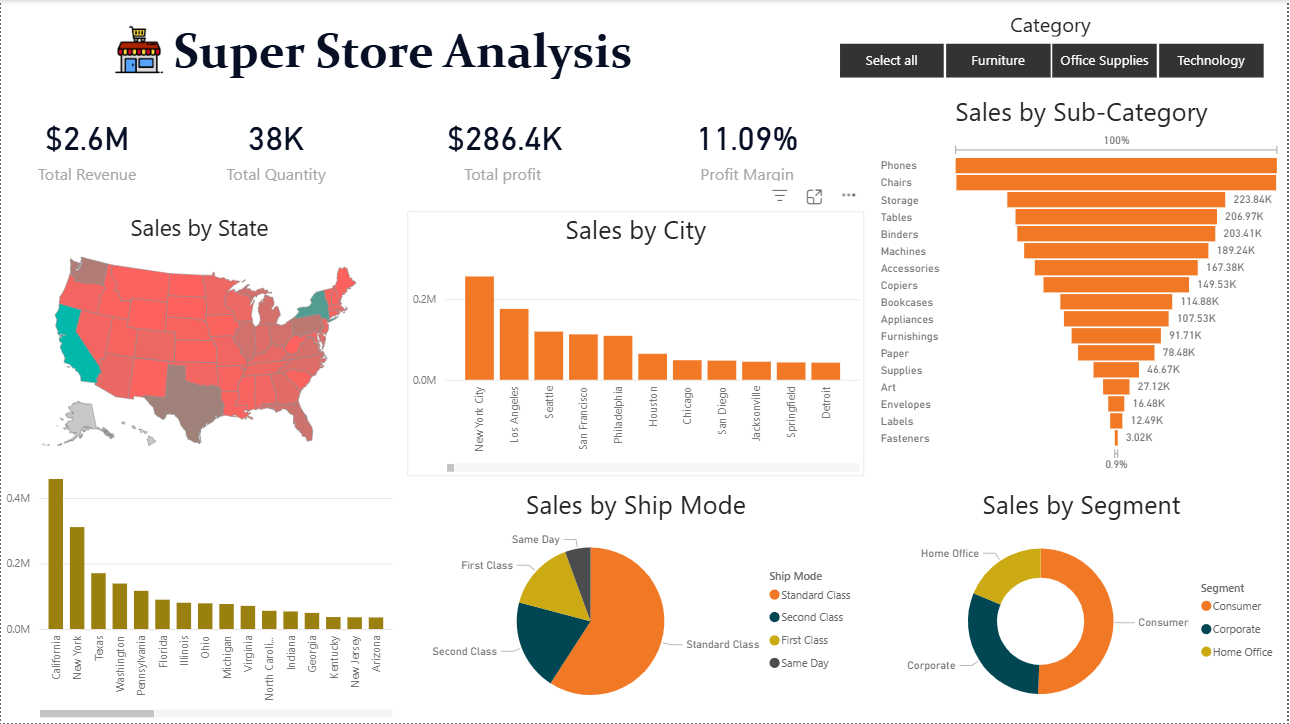

This screenshot's page, from the dashboard's own definition file:
{"tool":"powerbi","page":{"name":"Sales","canvas":[1280,720],"ordinal":0},"visuals":[{"type":"textbox","box":[165.7,16.4,479.3,72.1],"z":0,"group":"g1"},{"type":"card","fields":{"Values":["SampleSuperstore.Profit plus Sales"]},"box":[0,93,171.8,106.3],"z":0},{"type":"image","box":[107.7,20.4,58.2,59.3],"z":1000,"group":"g1"},{"type":"card","fields":{"Values":["Sum(SampleSuperstore.Quantity)"]},"box":[171.8,93,204.6,106.3],"z":1000},{"type":"card","fields":{"Values":["Sum(SampleSuperstore.Profit)"]},"box":[376.4,93,249.7,106.3],"z":2000},{"type":"card","fields":{"Values":["SampleSuperstore.Profit divided by Total Revenue"]},"box":[626.1,93,233.8,106.3],"z":3000},{"type":"shapeMap","title":"Sales by State","fields":{"Category":["SampleSuperstore.State"],"Value":["Sum(SampleSuperstore.Sales)"]},"box":[0,209.9,395,248.9],"z":4000},{"type":"clusteredColumnChart","fields":{"Y":["Sum(SampleSuperstore.Sales)"],"Category":["SampleSuperstore.State"]},"box":[0,449,395,270.1],"z":5000},{"type":"clusteredColumnChart","title":"Sales by City","fields":{"Y":["Sum(SampleSuperstore.Sales)"],"Category":["SampleSuperstore.City"]},"box":[404.7,209.9,455.2,263.9],"z":6000},{"type":"pieChart","title":"Sales by Ship Mode","fields":{"Category":["SampleSuperstore.Ship Mode"],"Y":["Sum(SampleSuperstore.Sales)"]},"box":[404.7,483.5,455.2,235.6],"z":7000},{"type":"funnel","title":"Sales by Sub-Category","fields":{"Category":["SampleSuperstore.Sub-Category"],"Y":["Sum(SampleSuperstore.Sales)"]},"box":[870.6,93,409.2,380.8],"z":8000},{"type":"donutChart","title":"Sales by Segment","fields":{"Category":["SampleSuperstore.Segment"],"Y":["Sum(SampleSuperstore.Sales)"]},"box":[870.6,484.4,409.2,235.6],"z":9000},{"type":"slicer","title":"Category","fields":{"Values":["SampleSuperstore.Category"]},"box":[808.3,10,471.7,73.9],"z":10000},{"type":"group","id":"g1","title":"Group 1","box":[107.7,16.4,537.4,72.1],"z":11000}]}

Visuals, with their boxes in screenshot pixels (x1, y1, x2, y2), scaled from the page's 1280x720 canvas onto the 1290x724 screenshot:
textbox: (x1=167, y1=16, x2=650, y2=89)
card - SampleSuperstore.Profit plus Sales: (x1=0, y1=94, x2=173, y2=200)
image: (x1=109, y1=21, x2=167, y2=80)
card - Sum(SampleSuperstore.Quantity): (x1=173, y1=94, x2=379, y2=200)
card - Sum(SampleSuperstore.Profit): (x1=379, y1=94, x2=631, y2=200)
card - SampleSuperstore.Profit divided by Total Revenue: (x1=631, y1=94, x2=867, y2=200)
"Sales by State" shapeMap: (x1=0, y1=211, x2=398, y2=461)
clusteredColumnChart - Sum(SampleSuperstore.Sales) x SampleSuperstore.State: (x1=0, y1=451, x2=398, y2=723)
"Sales by City" clusteredColumnChart: (x1=408, y1=211, x2=867, y2=476)
"Sales by Ship Mode" pieChart: (x1=408, y1=486, x2=867, y2=723)
"Sales by Sub-Category" funnel: (x1=877, y1=94, x2=1289, y2=476)
"Sales by Segment" donutChart: (x1=877, y1=487, x2=1289, y2=723)
"Category" slicer: (x1=815, y1=10, x2=1289, y2=84)
"Group 1" group: (x1=109, y1=16, x2=650, y2=89)
